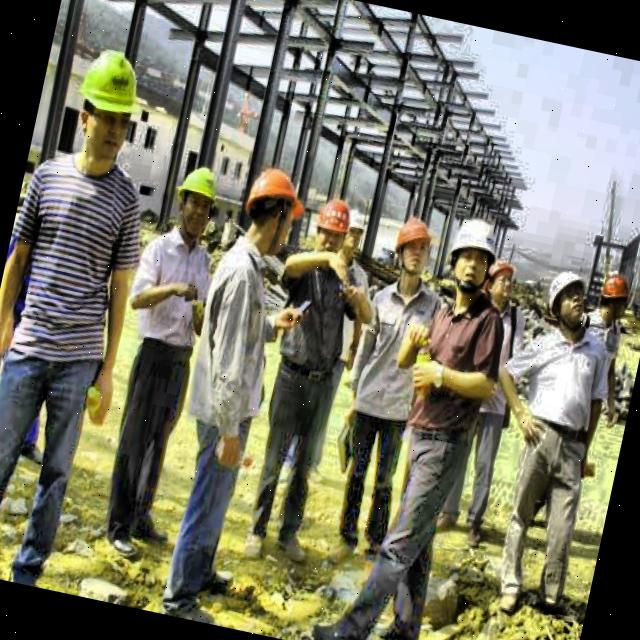helmet: (61, 32, 157, 176), (232, 154, 311, 260), (166, 156, 230, 244), (438, 213, 501, 298), (383, 208, 442, 290), (540, 264, 598, 336), (308, 192, 362, 261), (587, 262, 638, 335), (482, 253, 522, 311), (339, 210, 369, 261)
